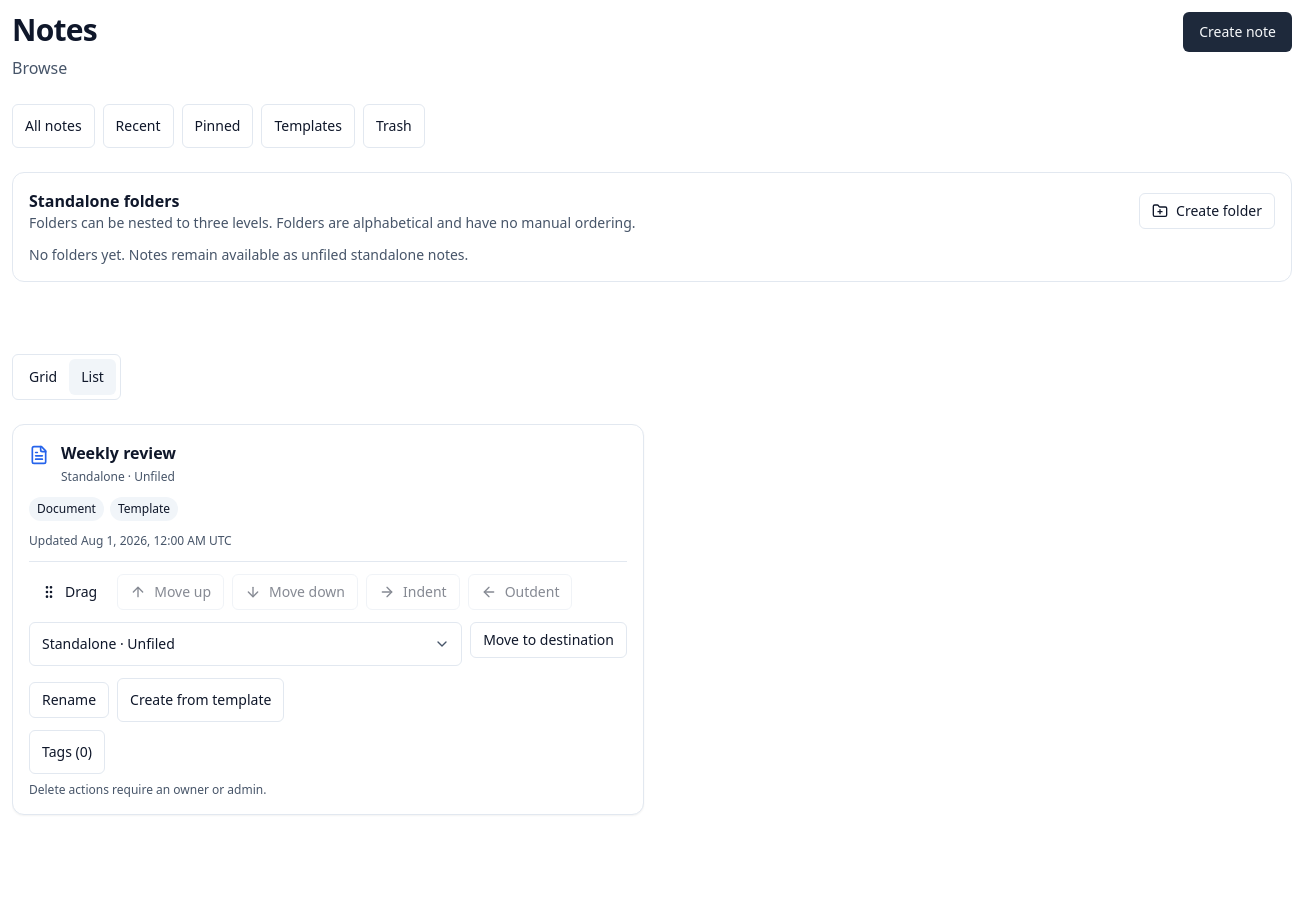
Test case: NoteBrowser optimistic behavior › copies a template into an ordinary note and announces the result
Click the button "Create from template" at [201, 700], box [117,678,284,722]
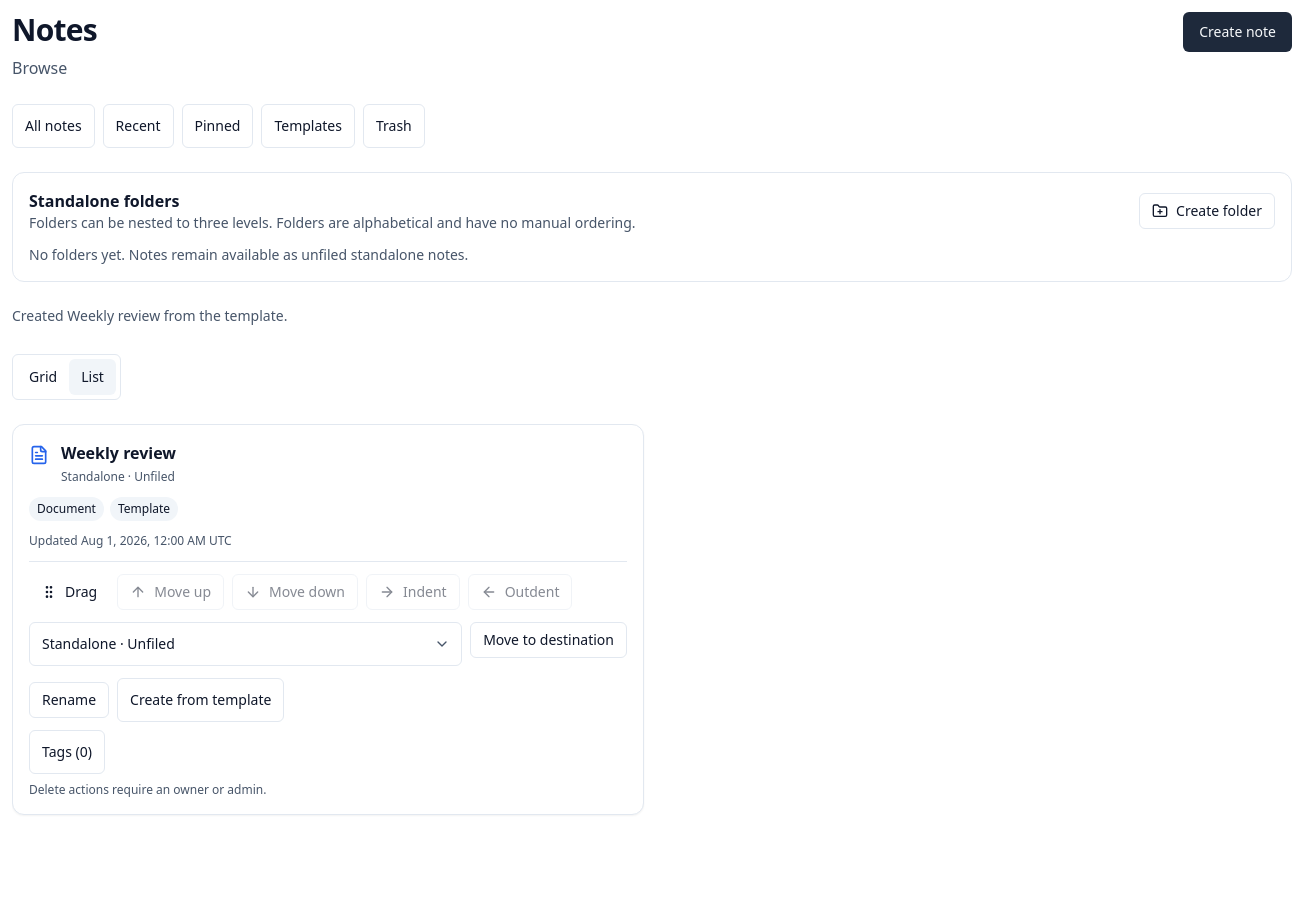
Expected: the text "Created Weekly review from the template." is shown, [12,306,287,325]
